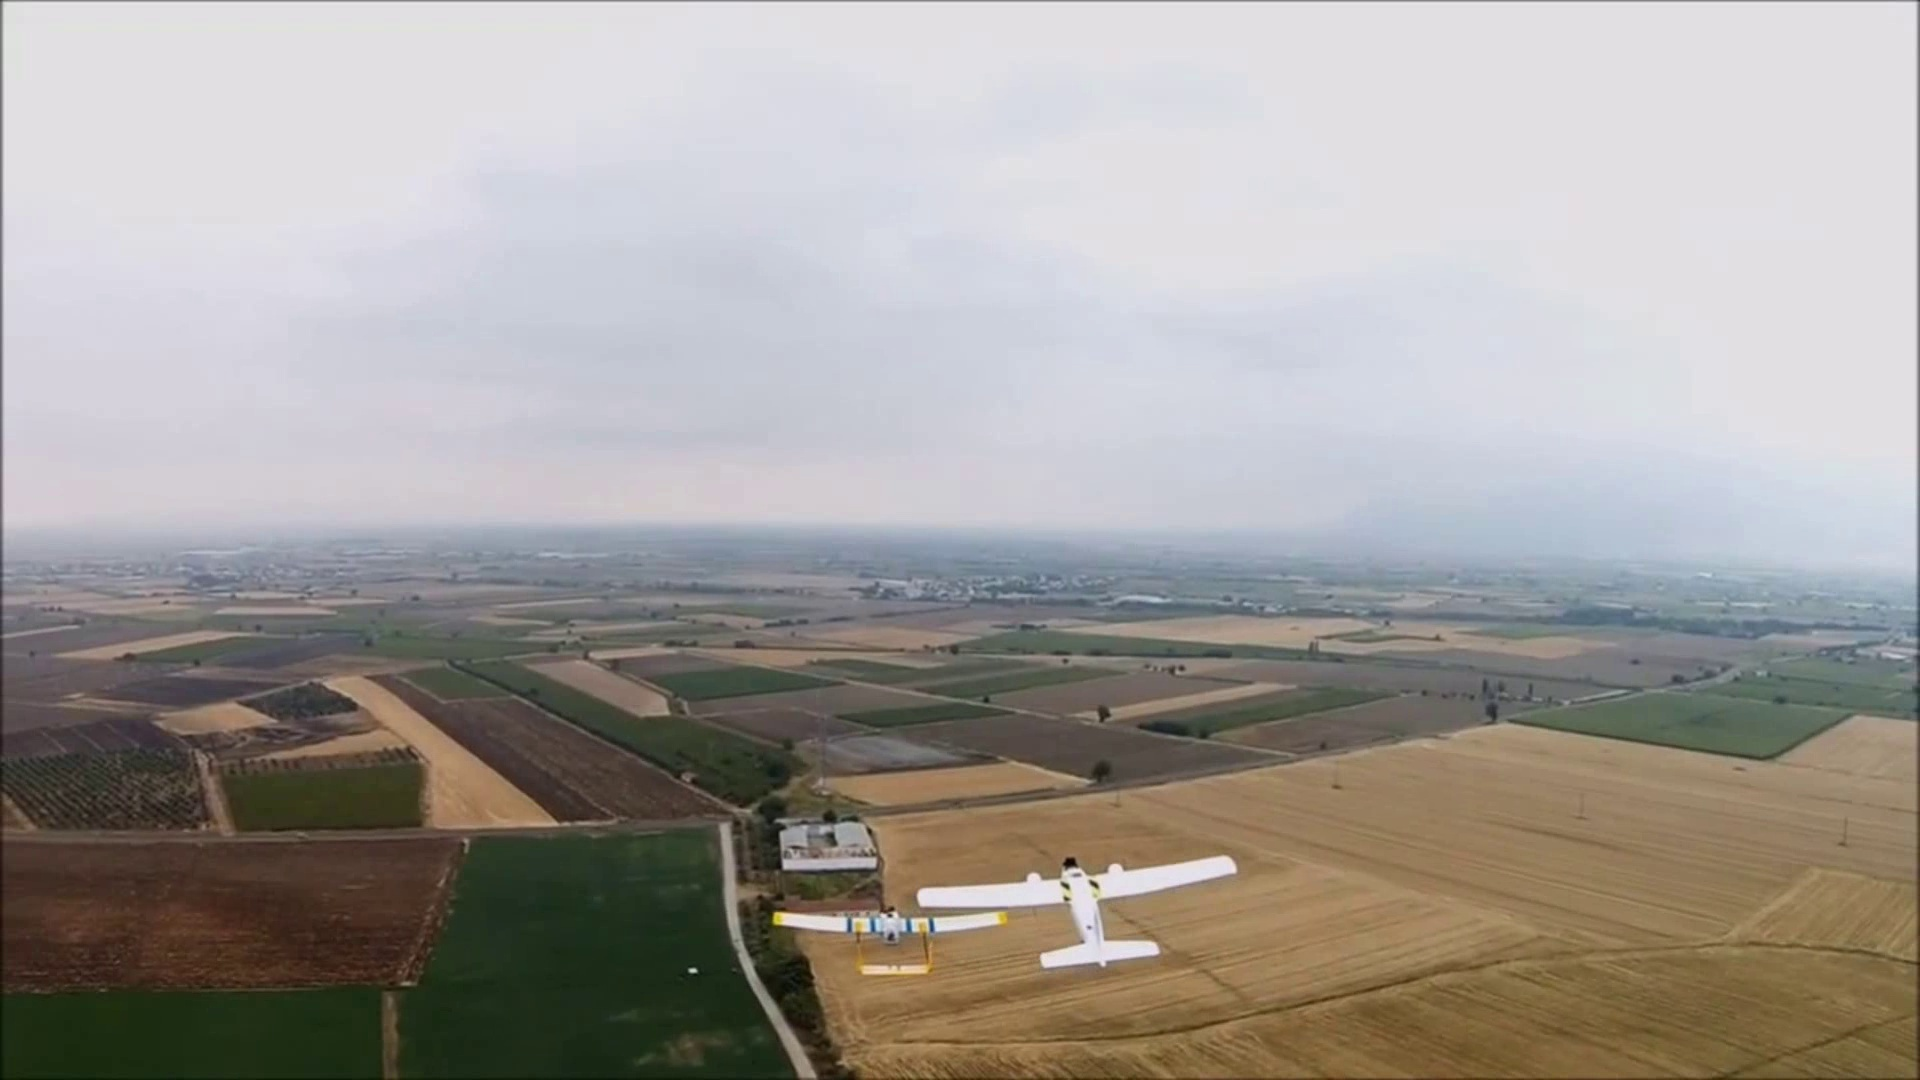airplane: (915, 851, 1240, 963)
